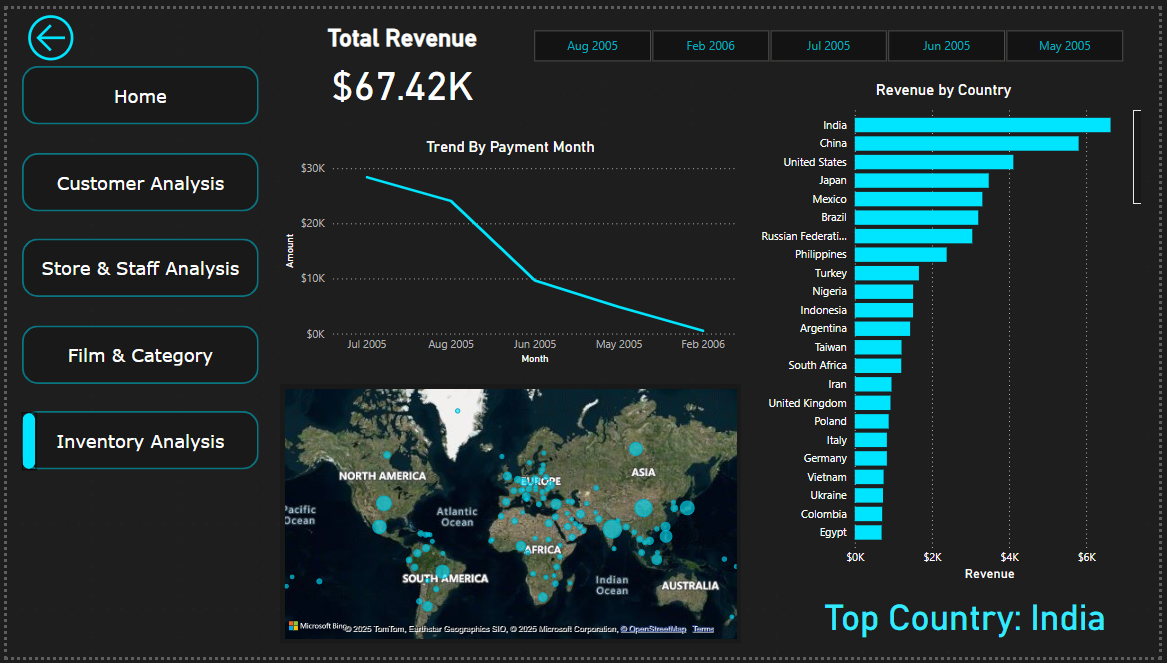

What the dashboard file says about the page in this screenshot:
{"tool":"powerbi","page":{"name":"Inventory Analysis","canvas":[1280,720],"ordinal":4},"visuals":[{"type":"lineChart","title":"Trend By Payment Month","fields":{"Category":["payment.PaymentMonth"],"Y":["Sum(payment.amount)"]},"box":[304,144,512,256],"z":0},{"type":"shape","box":[16,160,263,65],"z":0,"group":"g1"},{"type":"card","title":"Total Revenue","fields":{"Values":["Sum(payment.amount)"]},"box":[304,16,272,96],"z":1000},{"type":"shape","box":[16,256,263,65],"z":1000,"group":"g1"},{"type":"slicer","fields":{"Values":["payment.PaymentMonth"]},"box":[560,16,704,48],"z":2000},{"type":"shape","box":[16,352,263,65],"z":2000,"group":"g1"},{"type":"clusteredBarChart","title":"Revenue by Country","fields":{"Category":["country.country"],"Y":["Sum(payment.amount)"]},"box":[816,80,448,560],"z":3000},{"type":"shape","box":[16,448,263,65],"z":3000,"group":"g1"},{"type":"shape","box":[16,64,263,65],"z":4000,"group":"g1"},{"type":"map","fields":{"Category":["country.country"],"Size":["Sum(payment.amount)"]},"box":[304,416,512,288],"z":4000},{"type":"card","fields":{"Values":["actor.TopCountryLabel"]},"box":[880,640,368,64],"z":5000},{"type":"group","id":"g1","title":"Group 3","box":[16,64,263,449],"z":6000},{"type":"shape","box":[16,448,16,64],"z":7000},{"type":"actionButton","box":[16,0,64,64],"z":8000}]}

Visuals, with their boxes in screenshot pixels (x1, y1, x2, y2), scaled from the page's 1280x720 canvas onto the 1167x663 screenshot:
"Trend By Payment Month" lineChart: 277:133:744:368
shape: 15:147:254:207
"Total Revenue" card: 277:15:525:103
shape: 15:236:254:296
slicer - payment.PaymentMonth: 511:15:1152:59
shape: 15:324:254:384
"Revenue by Country" clusteredBarChart: 744:74:1152:589
shape: 15:413:254:472
shape: 15:59:254:119
map - country.country x Sum(payment.amount): 277:383:744:648
card - actor.TopCountryLabel: 802:589:1138:648
"Group 3" group: 15:59:254:472
shape: 15:413:29:471
actionButton: 15:0:73:59
